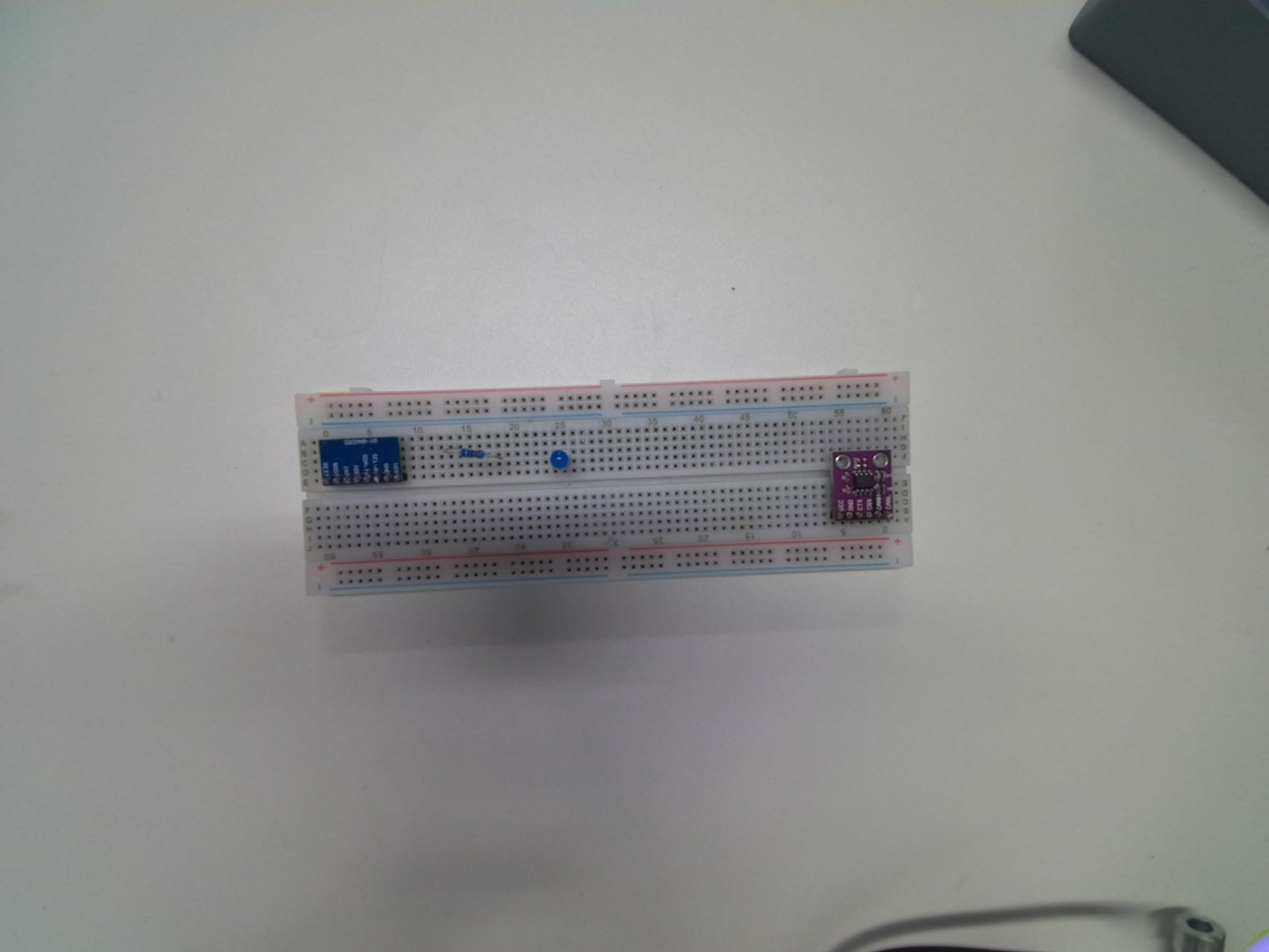base: (289, 371, 914, 594)
blue-board: (316, 434, 406, 488)
blue-led: (551, 448, 572, 472)
purple-board: (831, 449, 893, 523)
resistor-small: (460, 445, 486, 460)
